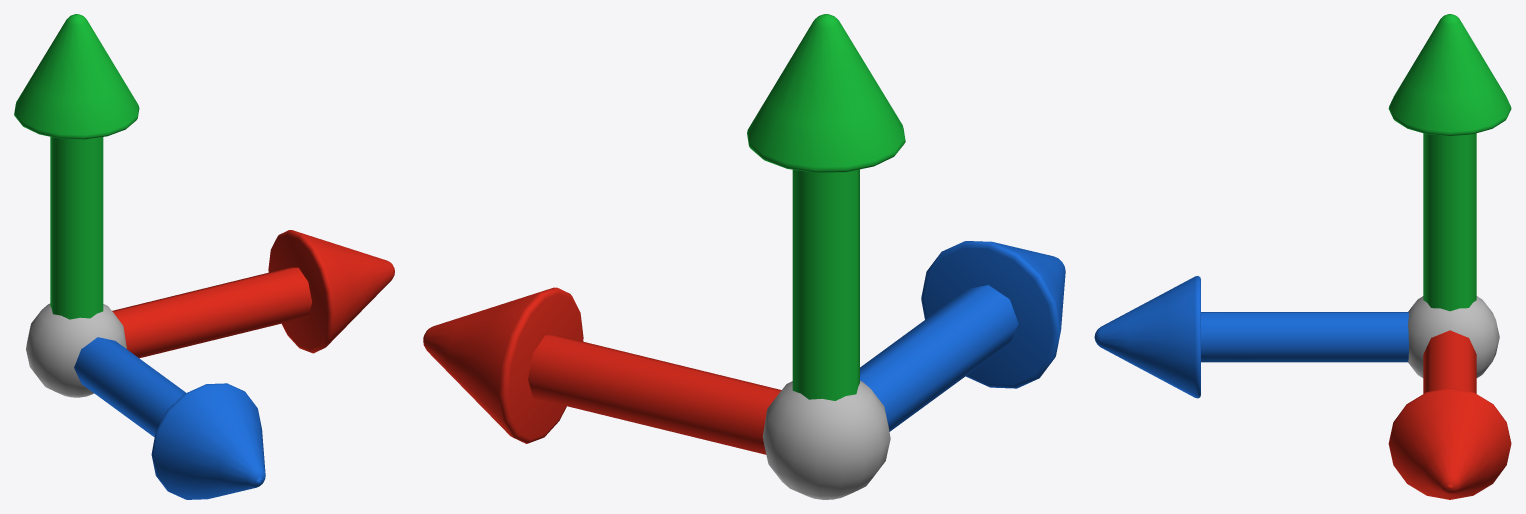
The model's file is mm_plus_assets.glb.
3 views of the same model, side by side, from view 1: azimuth 30°, elevation 25°; view 2: azimuth 150°, elevation 25°; view 3: azimuth 270°, elevation 25° (orthographic). The views are drawn at different scales.
Visible parts, largest first — view 1: GizmoMesh; view 2: GizmoMesh; view 3: GizmoMesh.
Boxes of the visible parts, x1,y1,x2,y2 form: GizmoMesh: [14, 14, 394, 499]; GizmoMesh: [423, 14, 1065, 499]; GizmoMesh: [1094, 14, 1511, 499].
Bounding box in the file's own units: 1.17 × 1.17 × 1.17.
